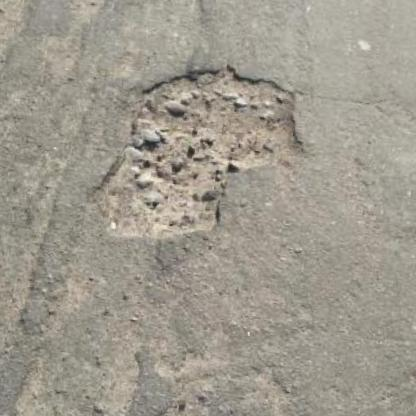pothole: (85, 46, 320, 268)
